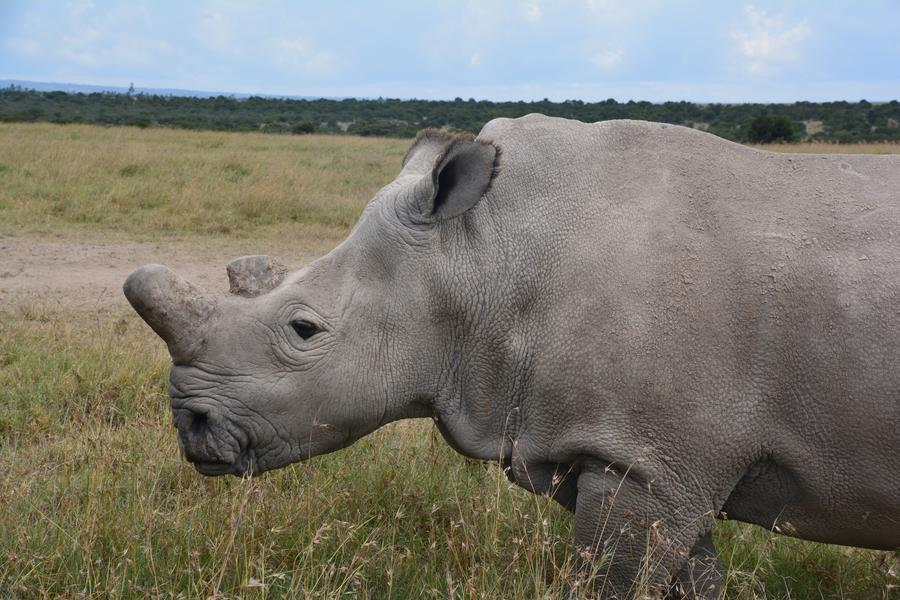rhino: (176, 105, 885, 574)
